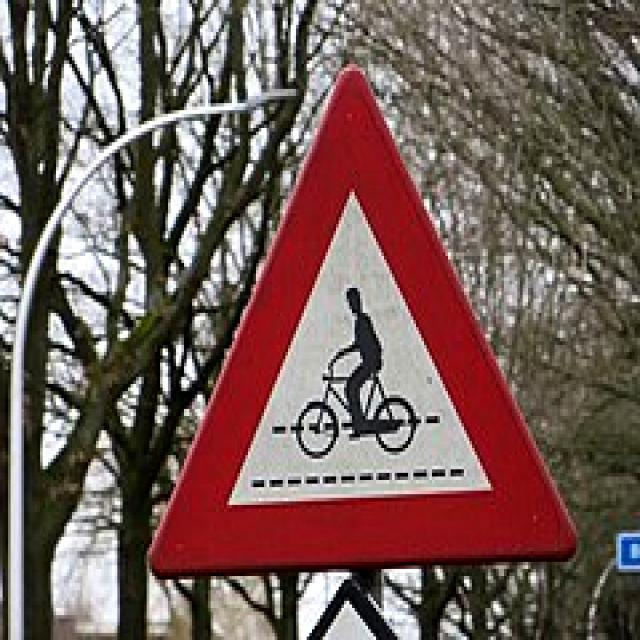Traffic sign: (132, 58, 584, 596)
